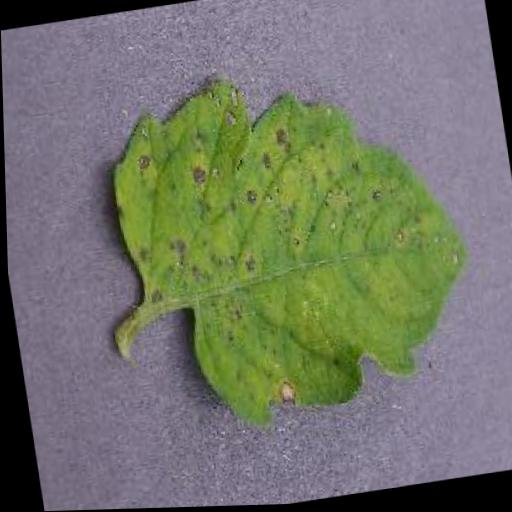Septoria: (95, 41, 486, 441)
